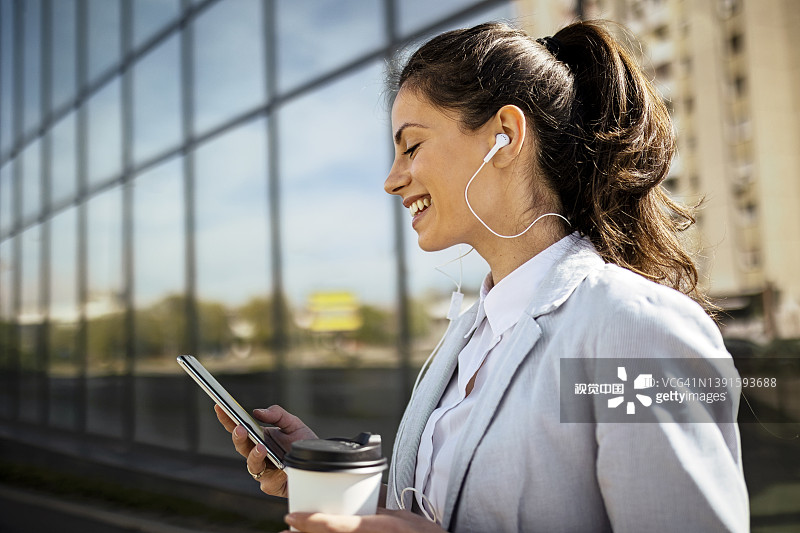reading: (175, 355, 345, 501)
